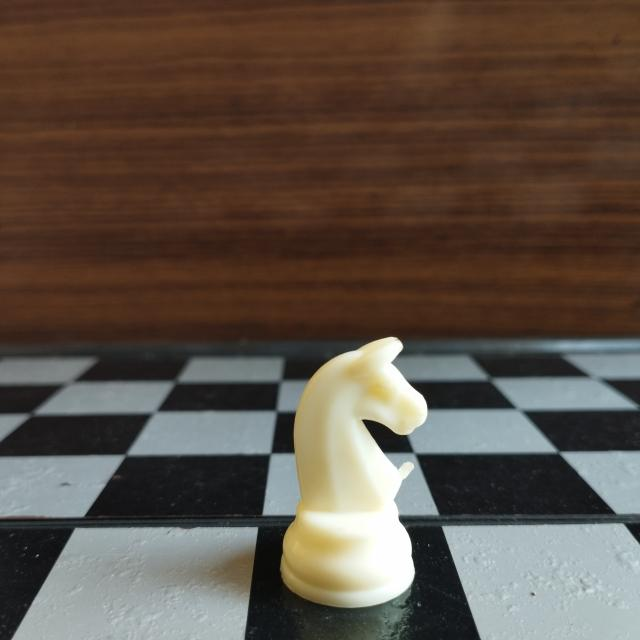White Knight: (271, 328, 435, 618)
